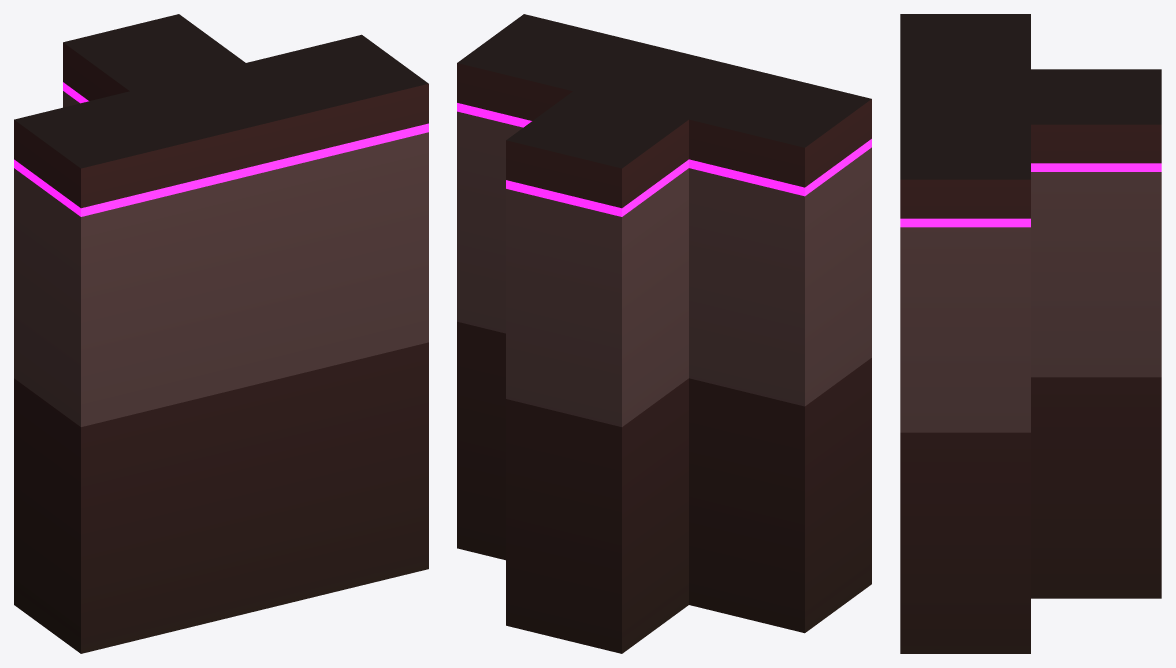
File: WallT22.fbx
The picture shows the model from 3 angles, left to right: view 1: azimuth 30°, elevation 25°; view 2: azimuth 150°, elevation 25°; view 3: azimuth 270°, elevation 25°; orthographic projection. The views are drawn at different scales.
Parts seen in each view (by area): view 1: WallT22; view 2: WallT22; view 3: WallT22.
Part boxes in pixels (x1,y1,x2,y2): WallT22: (14,14,428,653); WallT22: (457,14,871,653); WallT22: (900,14,1161,653).
Bounding box in the file's own units: 300 × 400 × 200.
